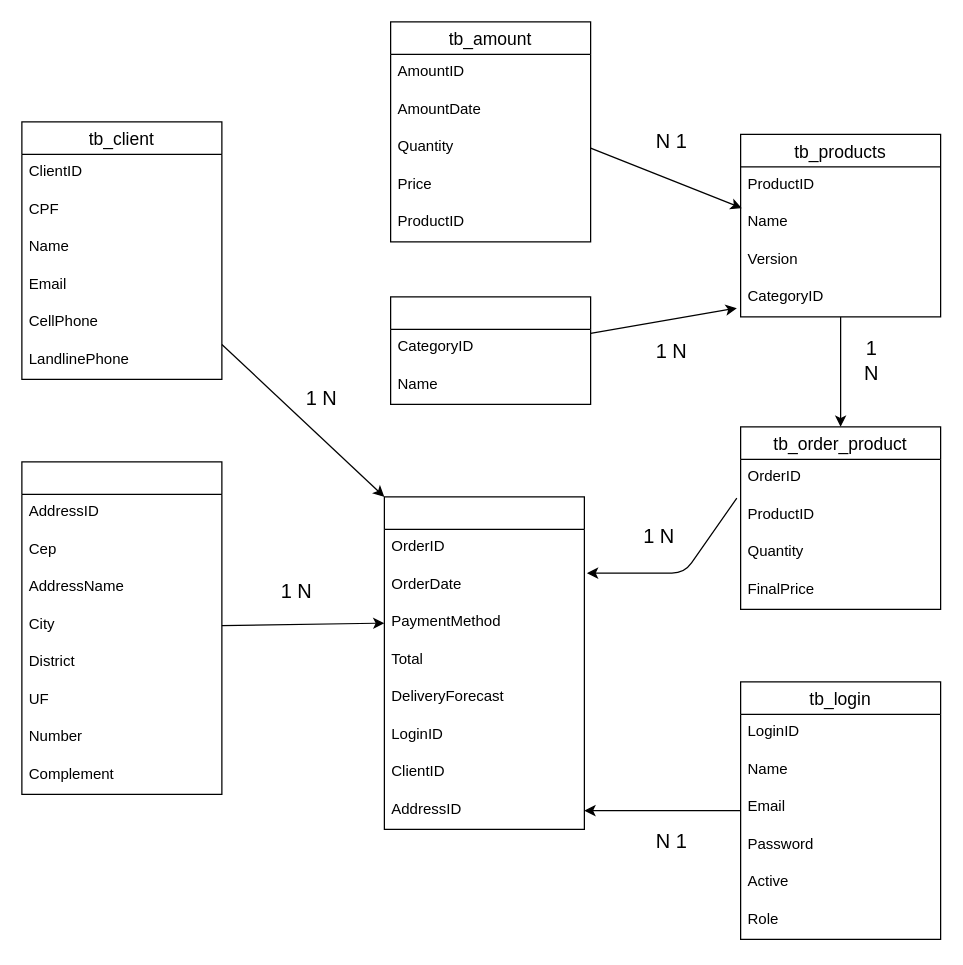
The diagram is 963 pixels wide and 965 high, and some of its shapes have lost their labels. Each missing label, with the box of its shape:
tb_address: (21, 461, 222, 794)
tb_categories: (389, 296, 591, 404)
tb_order: (383, 496, 584, 829)
